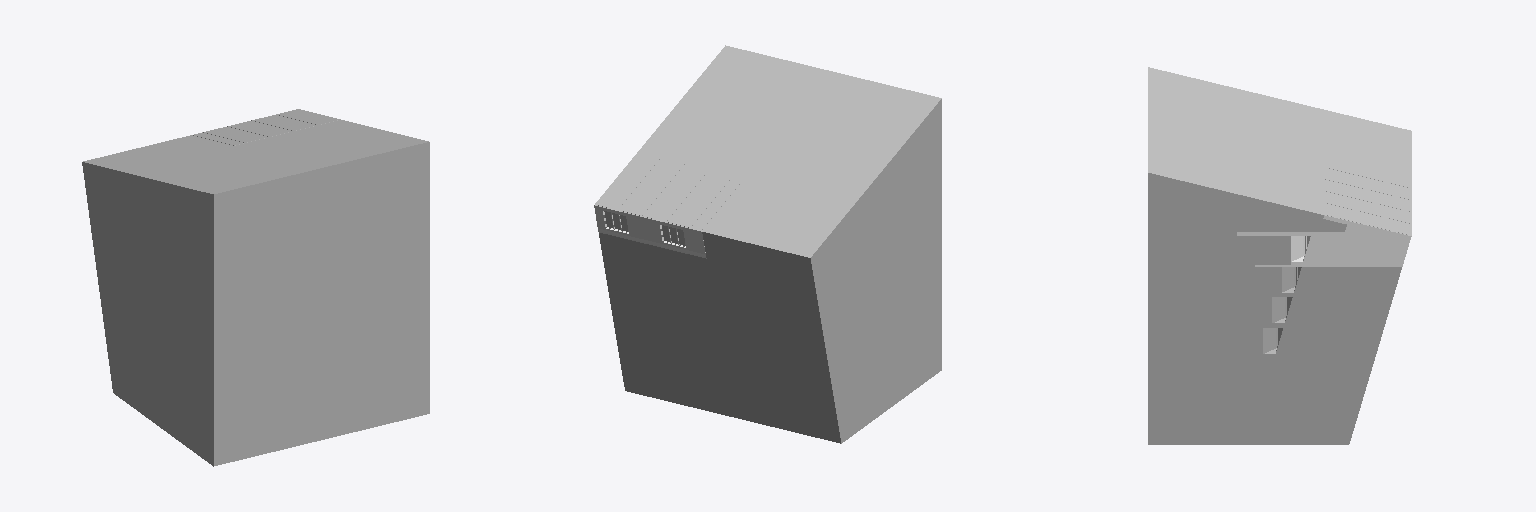
The model's file is linq_low_poly_web_app.obj.
3 renders of one model, left to right at view 1: azimuth 30°, elevation 25°; view 2: azimuth 150°, elevation 25°; view 3: azimuth 270°, elevation 25°, orthographic.
Parts seen in each view (by area): view 1: LINQ_6, LINQ_solar_panels_1; view 2: LINQ_6, LINQ_solar_panels_1, MYLINQ_2; view 3: LINQ_6, MYLINQ_2, LINQ_solar_panels_1.
Part boxes in pixels (bbox=[...]): LINQ_6: bbox=[82, 120, 429, 466]; LINQ_solar_panels_1: bbox=[191, 109, 340, 145]; LINQ_6: bbox=[599, 45, 941, 443]; LINQ_solar_panels_1: bbox=[595, 152, 745, 231]; MYLINQ_2: bbox=[594, 205, 706, 258]; LINQ_6: bbox=[1148, 67, 1411, 444]; MYLINQ_2: bbox=[1237, 215, 1411, 266]; LINQ_solar_panels_1: bbox=[1324, 163, 1411, 235].
Bounding box in the file's own units: 43.13 × 51.82 × 45.41.